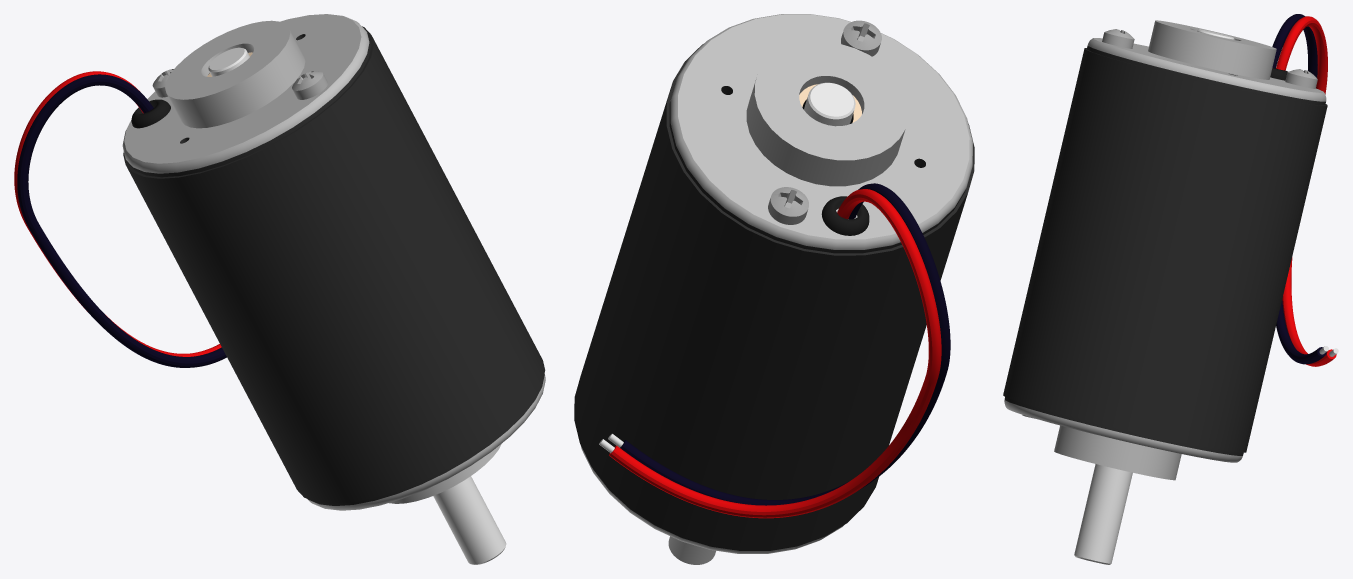
The picture shows the model from 3 angles, left to right: view 1: azimuth 30°, elevation 25°; view 2: azimuth 150°, elevation 25°; view 3: azimuth 270°, elevation 25°; orthographic projection. The views are drawn at different scales.
Visible parts, largest first — view 1: spindle, BezierCurve, Cylinder.001; view 2: spindle, BezierCurve, Cylinder.001; view 3: spindle, BezierCurve.
Boxes of the visible parts, x1,y1,x2,y2 form: spindle: (122, 14, 545, 564); BezierCurve: (14, 71, 226, 367); Cylinder.001: (131, 99, 170, 128); spindle: (574, 14, 974, 564); BezierCurve: (599, 183, 950, 518); Cylinder.001: (821, 196, 869, 235); spindle: (1003, 20, 1327, 564); BezierCurve: (1272, 14, 1338, 366).
Bounding box in the file's own units: 0.0885 × 0.1084 × 0.0697.
